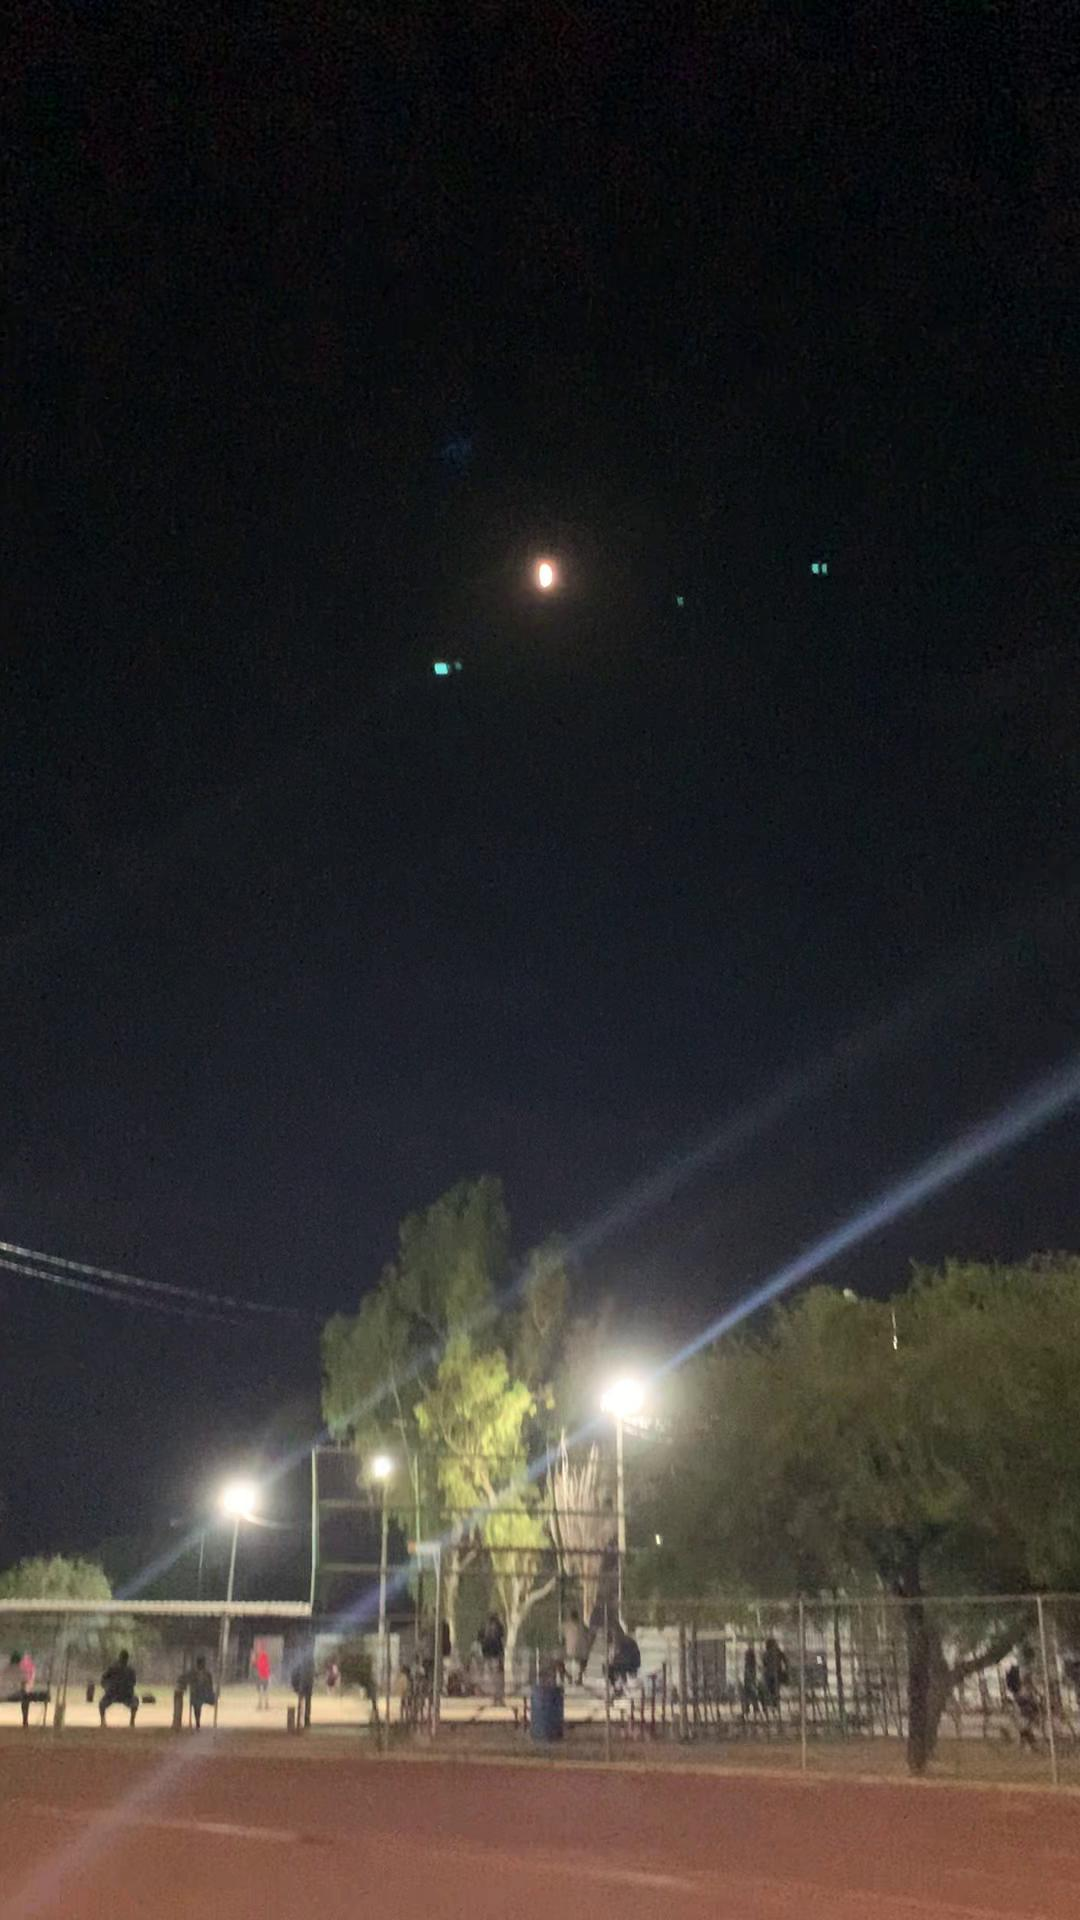moon: (514, 539, 583, 605)
